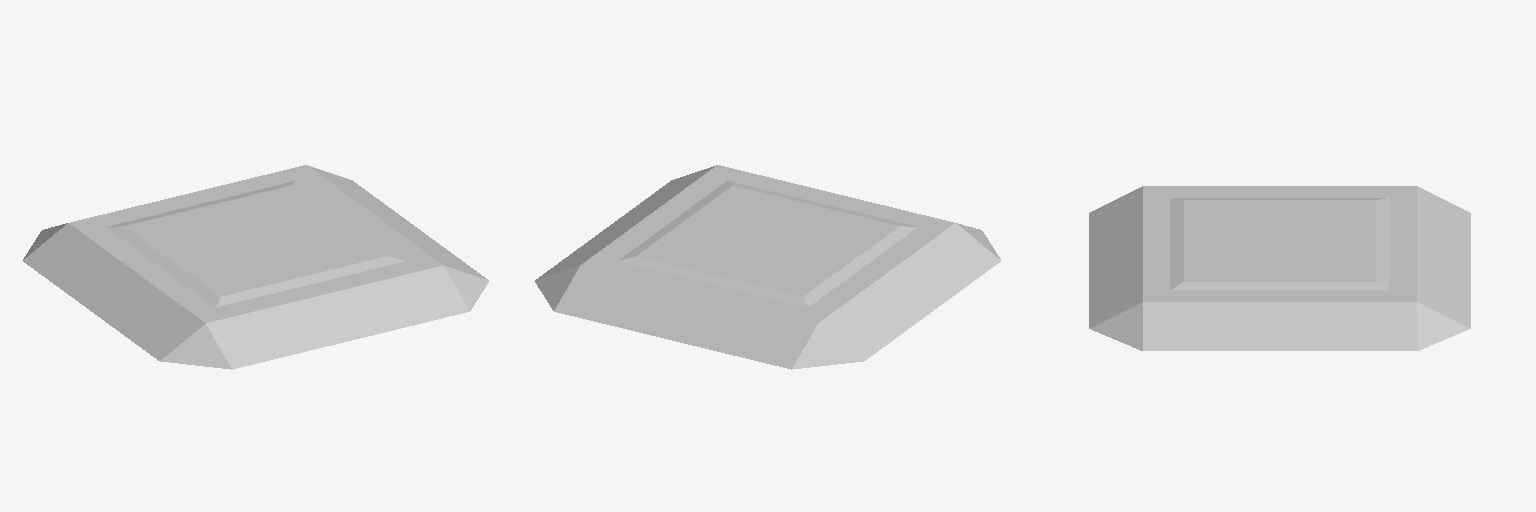
The model's file is Sona_de_carga _del_roibot.obj.
The picture shows the model from 3 angles: view 1: azimuth 30°, elevation 25°; view 2: azimuth 150°, elevation 25°; view 3: azimuth 270°, elevation 25°; orthographic projection.
Parts seen in each view (by area): view 1: Plane.031; view 2: Plane.031; view 3: Plane.031.
Part boxes in pixels (x1,y1,x2,y2): Plane.031: (23,165,488,369); Plane.031: (535,165,1000,369); Plane.031: (1089,186,1470,350).
Size of the model in its own units: 1.77 by 0.1526 by 1.77.